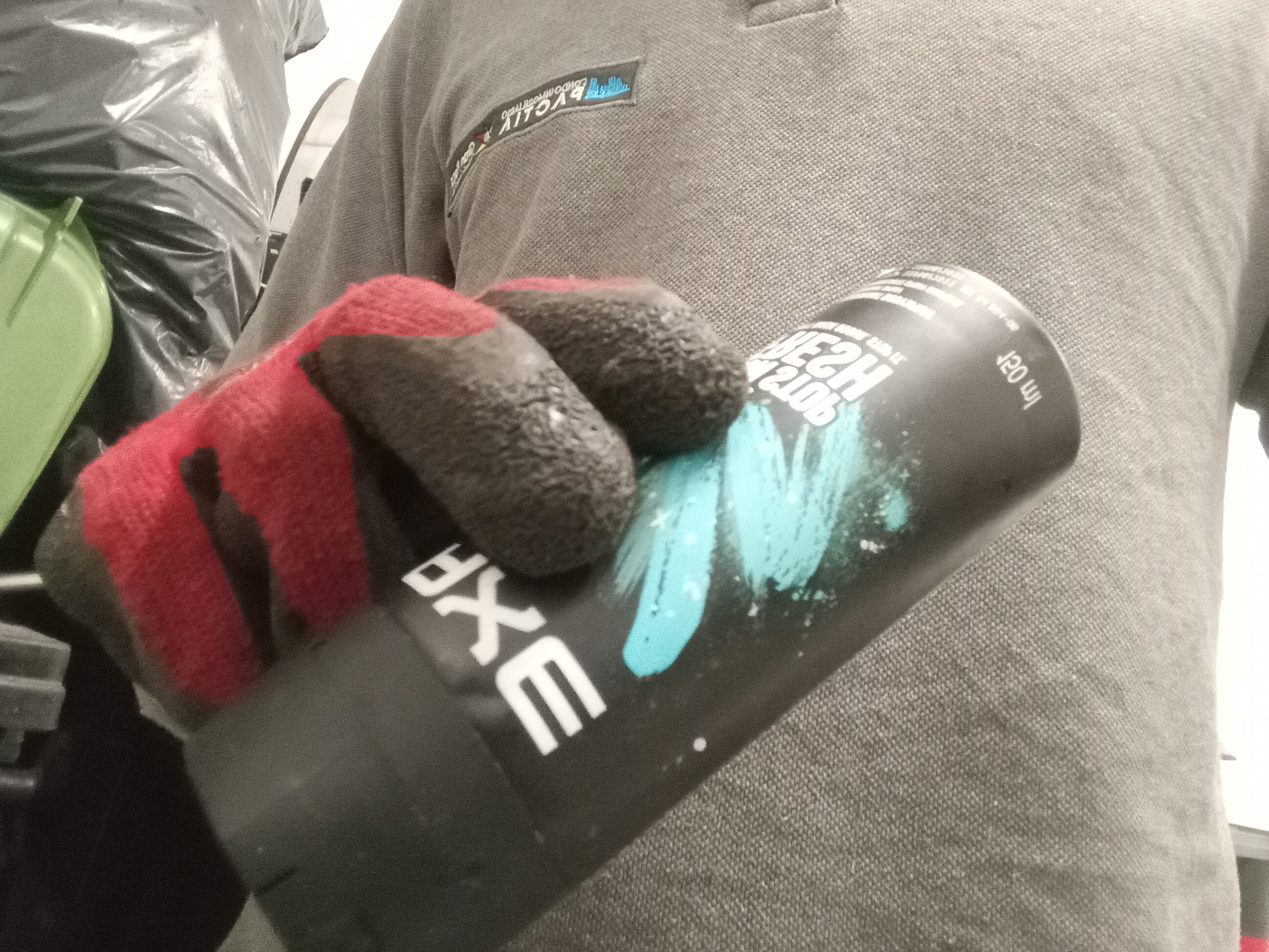Metal: (188, 260, 1081, 952)
